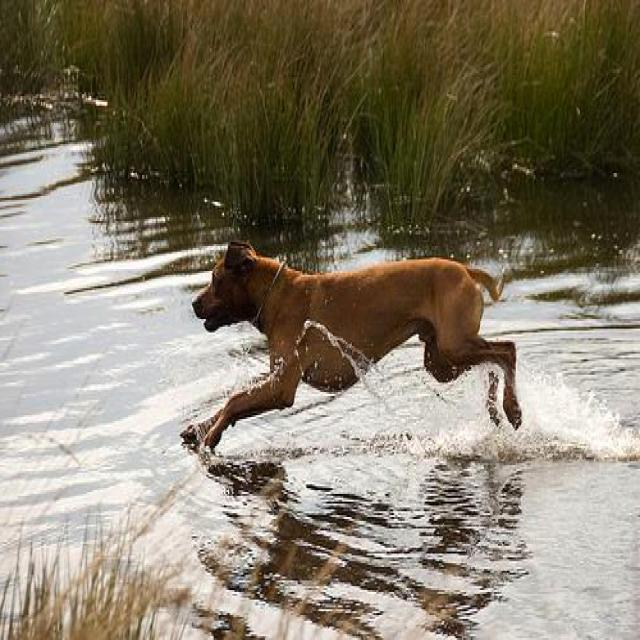rhodesian_ridgeback: (182, 234, 522, 453)
